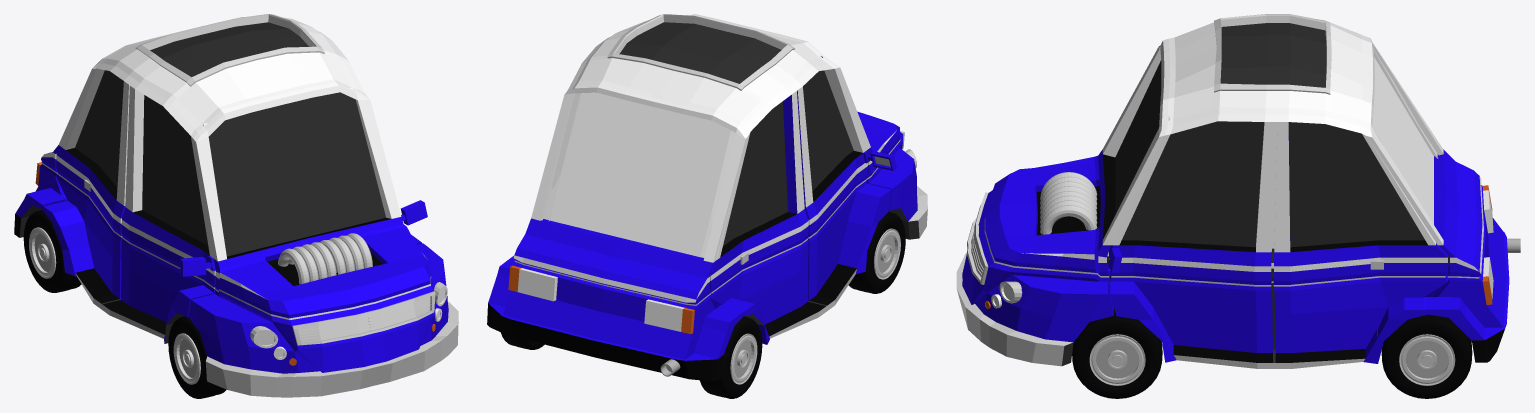
3 renders of one model, left to right at view 1: azimuth 30°, elevation 25°; view 2: azimuth 150°, elevation 25°; view 3: azimuth 270°, elevation 25°, orthographic. The views are drawn at different scales.
Visible parts, largest first — view 1: BODY, WHEEL.004, WHEEL.001; view 2: BODY, WHEEL.004, WHEEL.001; view 3: BODY, WHEEL.002, WHEEL.003.
Boxes of the visible parts, x1,y1,x2,y2 form: BODY: (14, 14, 458, 397); WHEEL.004: (23, 210, 81, 292); WHEEL.001: (168, 316, 226, 398); BODY: (487, 14, 927, 381); WHEEL.004: (700, 316, 762, 398); WHEEL.001: (848, 211, 905, 293); BODY: (956, 14, 1509, 368); WHEEL.002: (1381, 314, 1472, 398); WHEEL.003: (1072, 308, 1162, 398).
Size of the model in its own units: 121 by 126 by 216.
